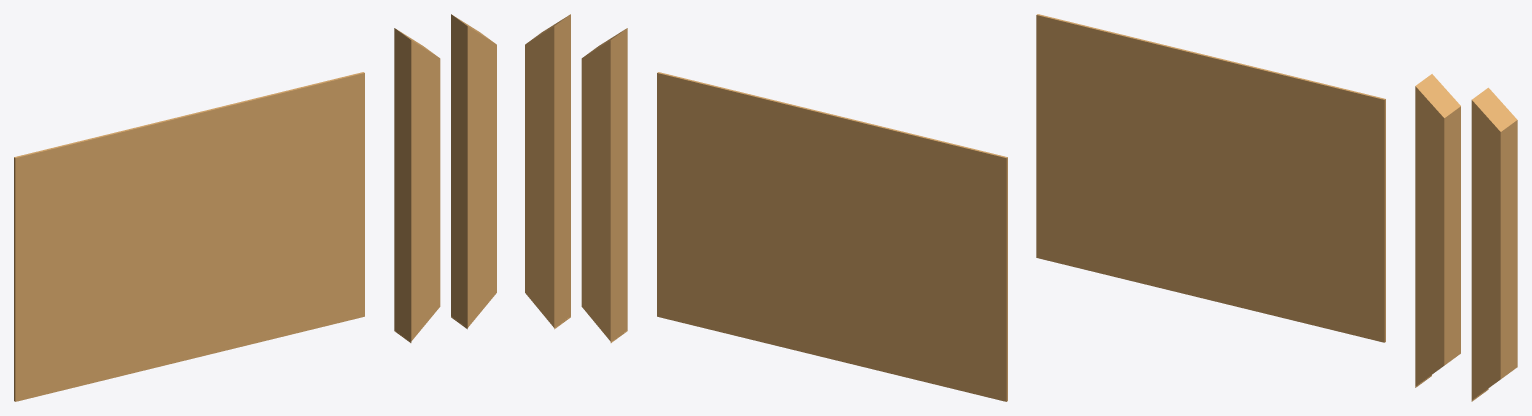
The model's file is 小人台.gltf.
3 views of the same model, side by side, from view 1: azimuth 30°, elevation 25°; view 2: azimuth 150°, elevation 25°; view 3: azimuth 330°, elevation 25° (orthographic).
Parts seen in each view (by area): view 1: ベニヤ, 支柱.001, 支柱; view 2: ベニヤ, 支柱.001, 支柱; view 3: ベニヤ, 支柱, 支柱.001.
Boxes of the visible parts, <box> form: ベニヤ: <box>14,72,364,401</box>; 支柱.001: <box>394,28,440,342</box>; 支柱: <box>451,14,496,329</box>; ベニヤ: <box>657,72,1007,401</box>; 支柱.001: <box>581,28,627,342</box>; 支柱: <box>525,14,570,329</box>; ベニヤ: <box>1036,14,1385,342</box>; 支柱: <box>1471,87,1517,401</box>; 支柱.001: <box>1415,74,1460,387</box>.
Size of the model in its own units: 1.63 by 0.9954 by 0.1.
